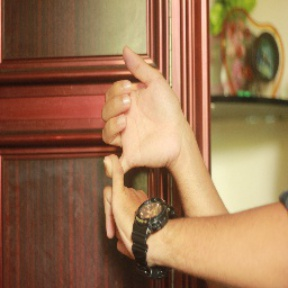S: (93, 43, 187, 263)
